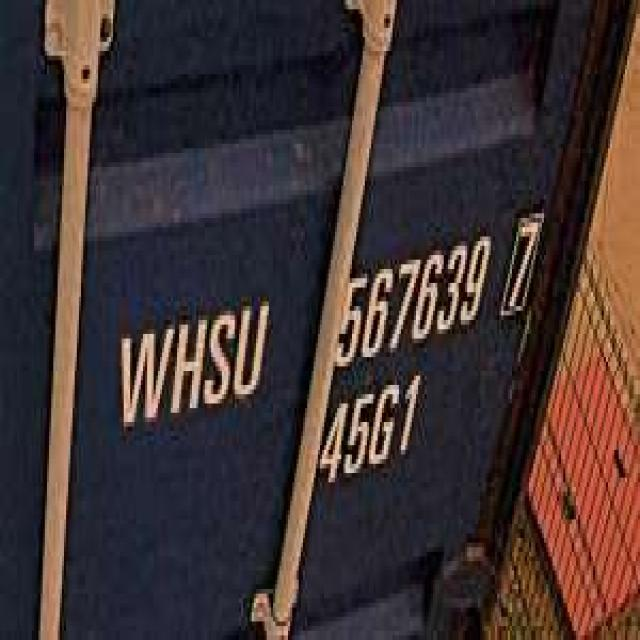dv: (499, 204, 544, 329)
owner: (111, 283, 273, 436)
serial: (330, 218, 495, 369)
size: (314, 371, 424, 492)
